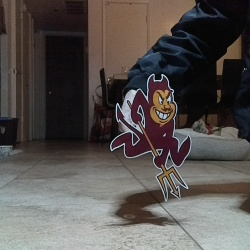sparky: (109, 73, 192, 202)
